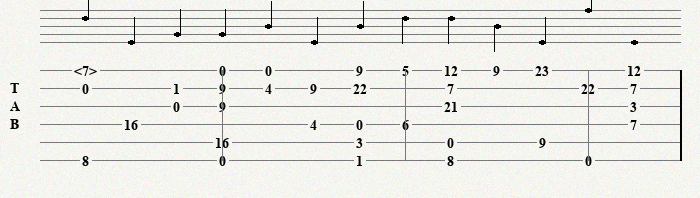0: (82, 81, 93, 95), (173, 99, 184, 113), (219, 63, 230, 77), (219, 153, 230, 167), (265, 63, 276, 77), (356, 117, 367, 131), (447, 135, 458, 149), (585, 153, 596, 167)
1: (173, 81, 184, 95), (356, 153, 367, 167)
12: (444, 63, 462, 77), (627, 63, 645, 77)
16: (124, 117, 142, 131), (215, 135, 233, 149)
21: (444, 99, 462, 113)
22: (353, 81, 371, 95), (581, 81, 599, 95)
23: (535, 63, 553, 77)
3: (356, 135, 367, 149), (630, 99, 641, 113)
4: (265, 81, 276, 95), (310, 117, 321, 131)
5: (402, 63, 413, 77)
6: (402, 117, 413, 131)
7: (447, 81, 458, 95), (630, 81, 641, 95), (630, 117, 641, 131)
8: (82, 153, 93, 167), (447, 153, 458, 167)
9: (219, 99, 230, 113), (219, 81, 230, 95), (310, 81, 321, 95), (356, 63, 367, 77), (493, 63, 504, 77), (539, 135, 550, 149)
harmonic: (74, 63, 101, 77)
